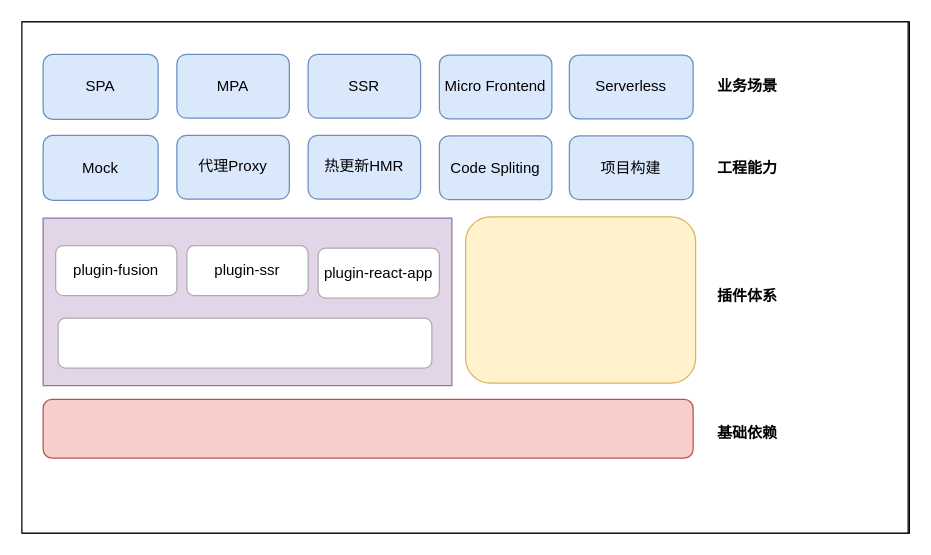
Image size: 931x555. Some labels were removed from this diagram. Here are the shapes that lost their labels. From the top down, the box of each, then its label:
(464, 216, 696, 383): icejs 运行时能力
(57, 317, 432, 368): build-scripts 插件生态
(42, 398, 693, 458): 统一构建工具 build-scripts
